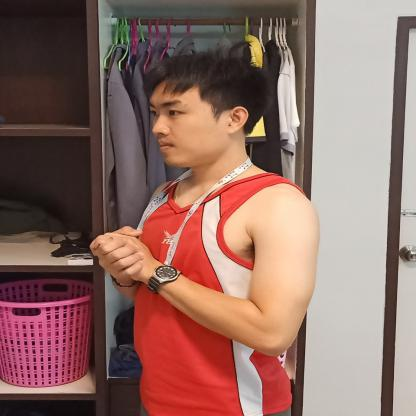Grieve: (66, 221, 216, 325)
